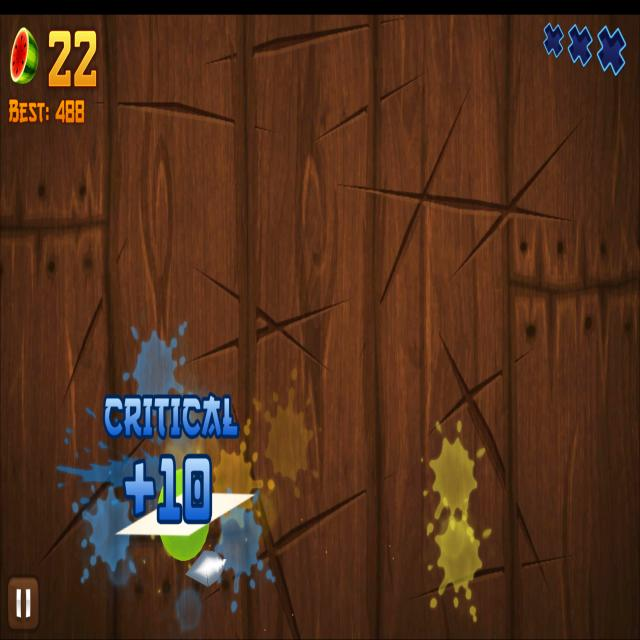fruit: (157, 468, 210, 562)
